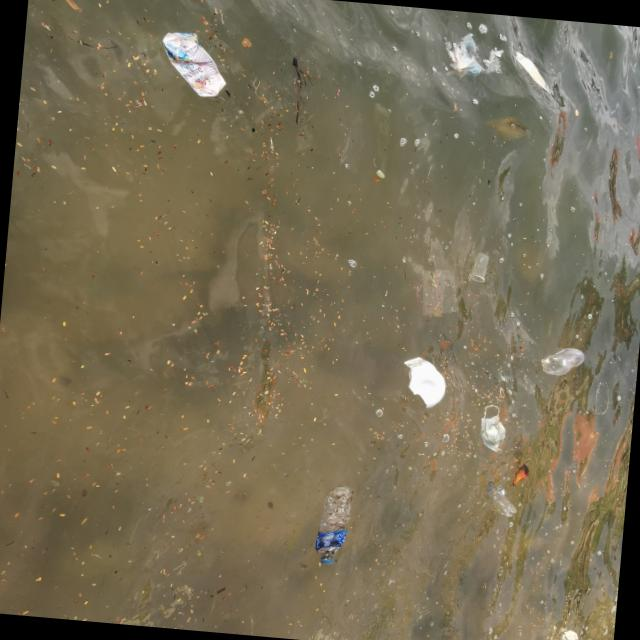foam: (398, 357, 448, 411), (556, 630, 581, 640)
plastic bottle: (314, 486, 351, 566), (540, 346, 586, 379), (482, 487, 520, 519)
